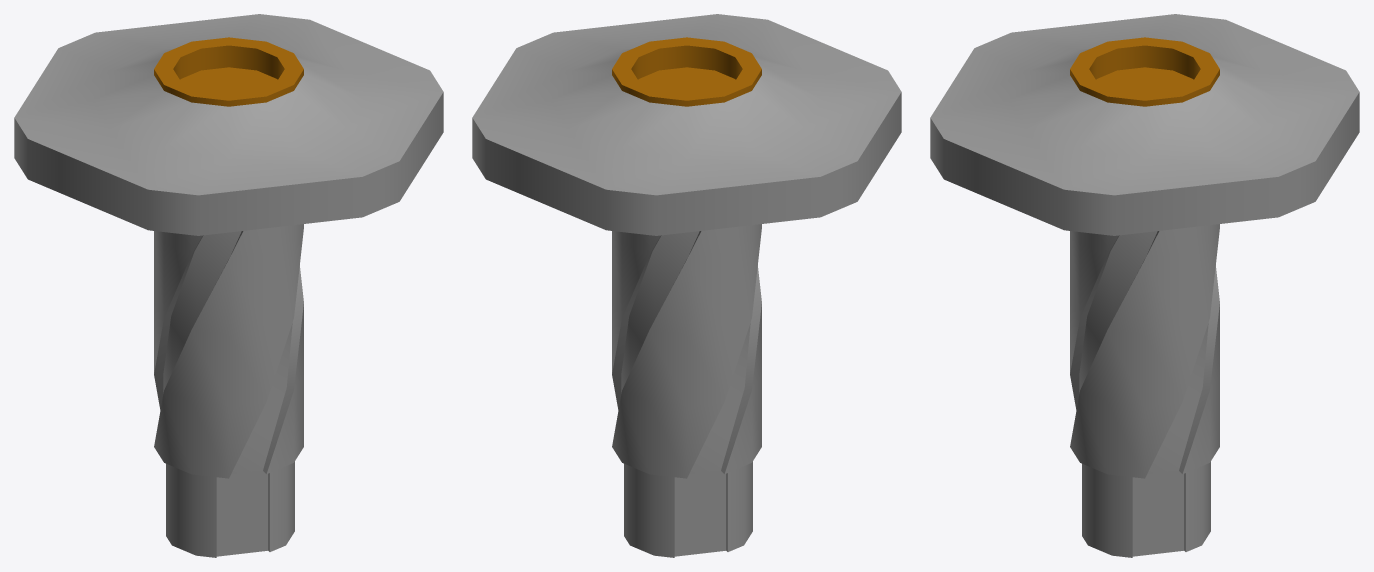
File: ScrewA.fbx
3 renders of one model, left to right at view 1: azimuth 30°, elevation 25°; view 2: azimuth 150°, elevation 25°; view 3: azimuth 270°, elevation 25°, orthographic.
Visible parts, largest first — view 1: ScrewA; view 2: ScrewA; view 3: ScrewA.
Part boxes in pixels (x1,y1,x2,y2): ScrewA: [14, 14, 443, 557]; ScrewA: [472, 14, 901, 557]; ScrewA: [930, 14, 1359, 557].
Bounding box in the file's own units: 147 × 174 × 147.
